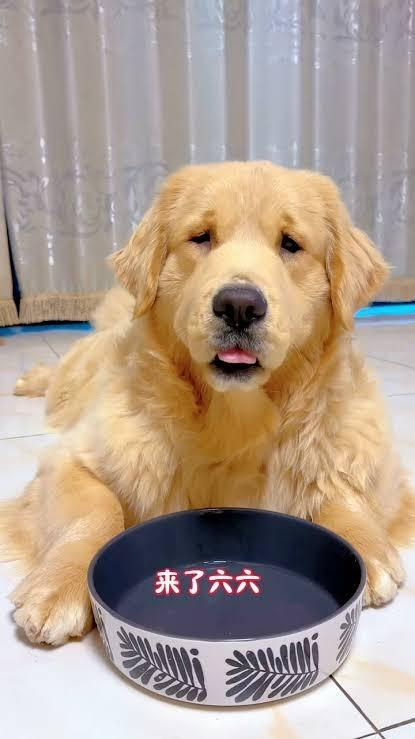adult_dog: (0, 162, 415, 651)
